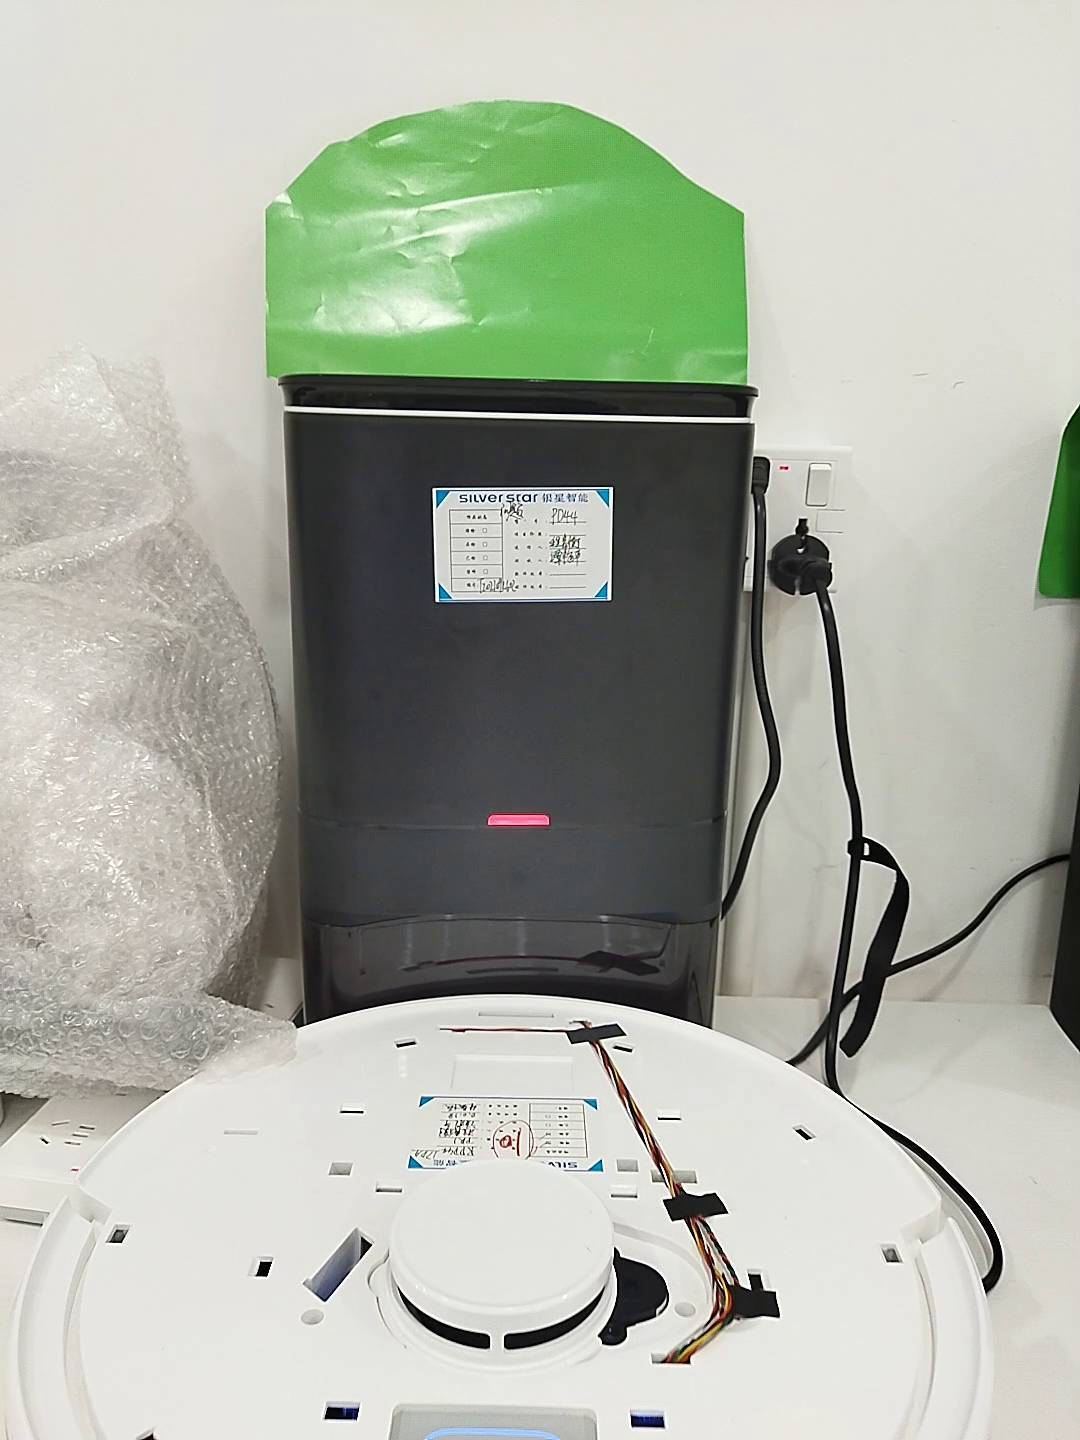dust collecting barrel: (277, 371, 760, 1048)
